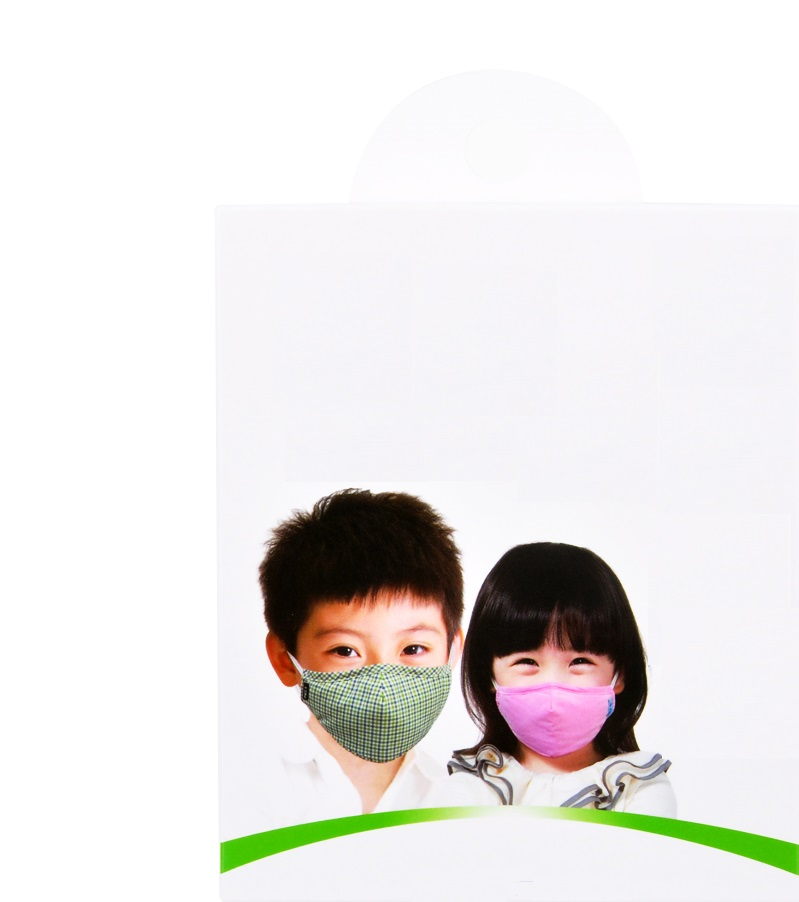face_mask: (297, 567, 449, 764), (494, 599, 612, 752)
